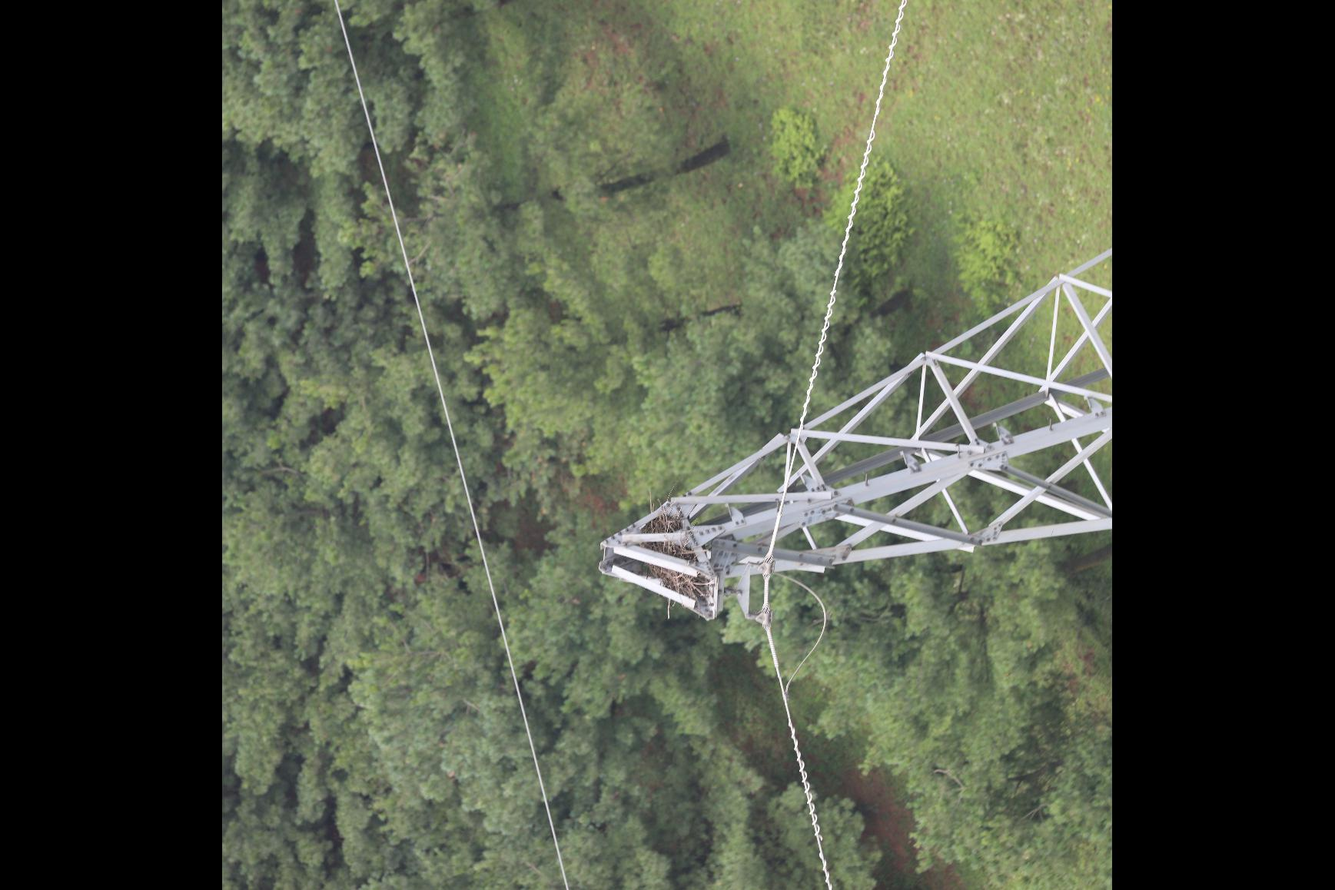nest: (639, 510, 707, 603)
